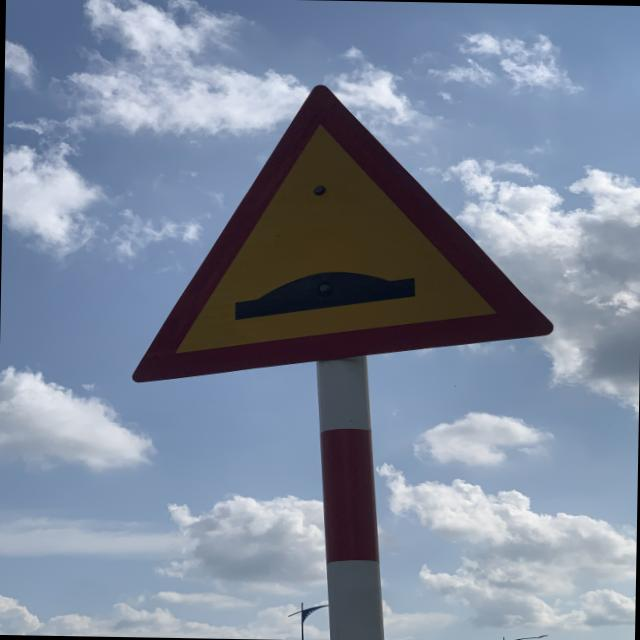Duong_Cong_Ben_Phai: (131, 81, 559, 395)
